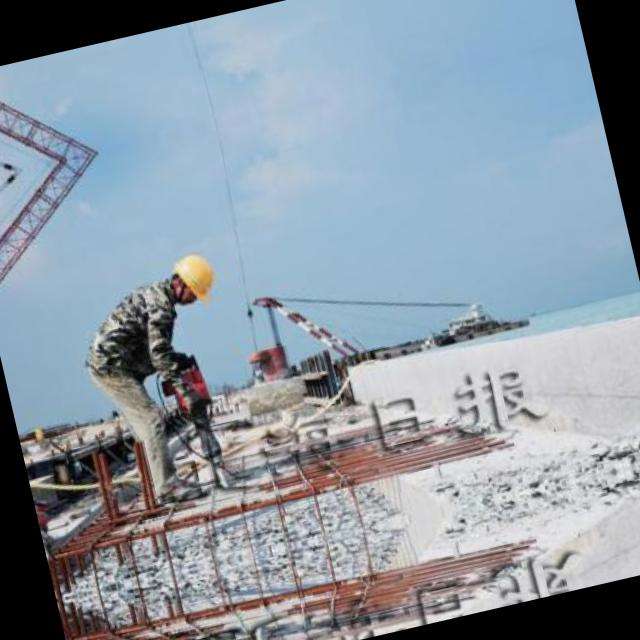helmet: (160, 243, 223, 310)
